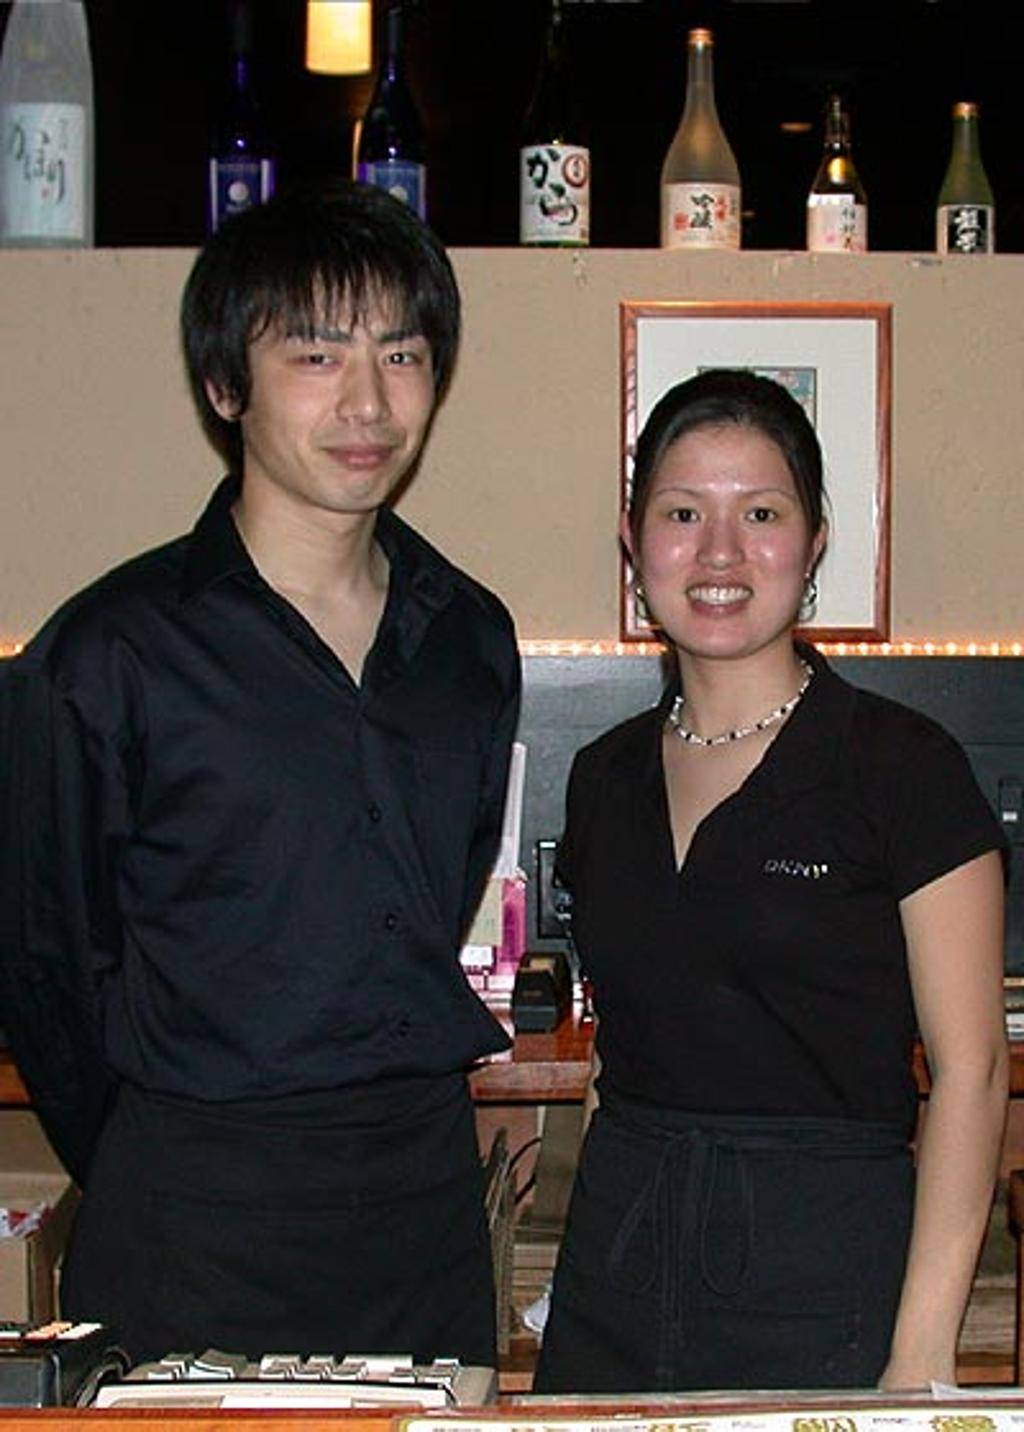face: (246, 260, 436, 506), (635, 428, 811, 655)
